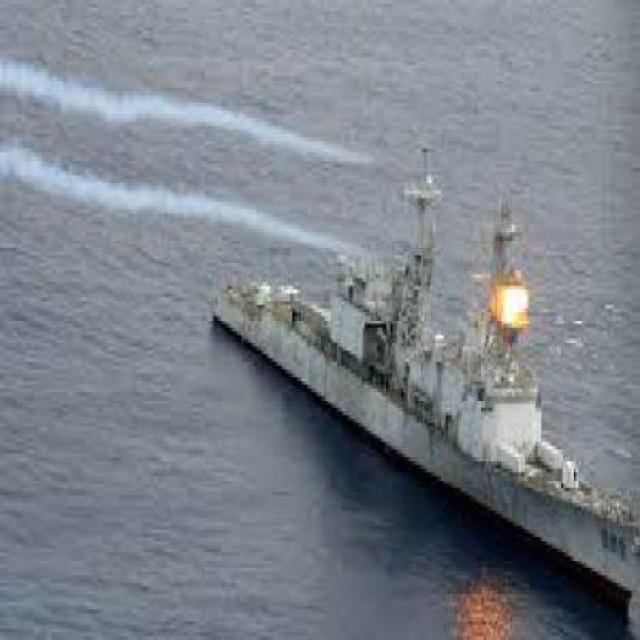warship2: (214, 157, 639, 614)
